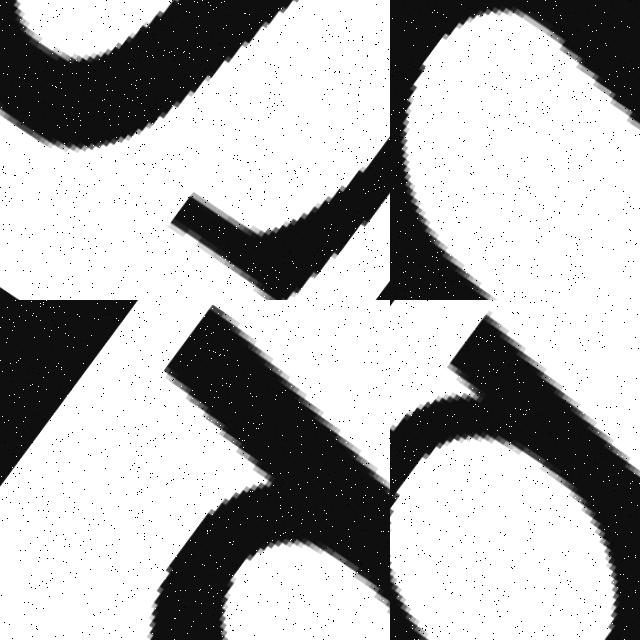D: (0, 300, 390, 640)
N: (390, 0, 640, 300)
Q: (390, 300, 640, 640)
S: (0, 0, 390, 300)
